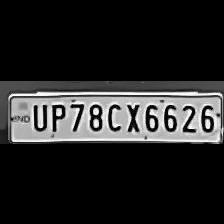2: (178, 100, 196, 132)
6: (196, 101, 216, 131), (141, 100, 159, 132), (160, 100, 178, 132)
7: (66, 99, 84, 131)
8: (84, 99, 104, 131)
C: (104, 99, 124, 131)
P: (46, 100, 66, 132)
U: (28, 100, 48, 132)
X: (122, 100, 142, 132)
